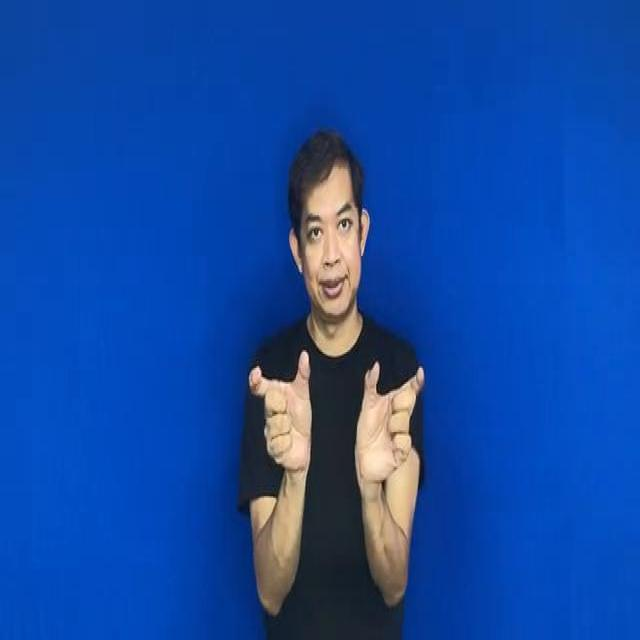crab: (244, 349, 431, 485)
